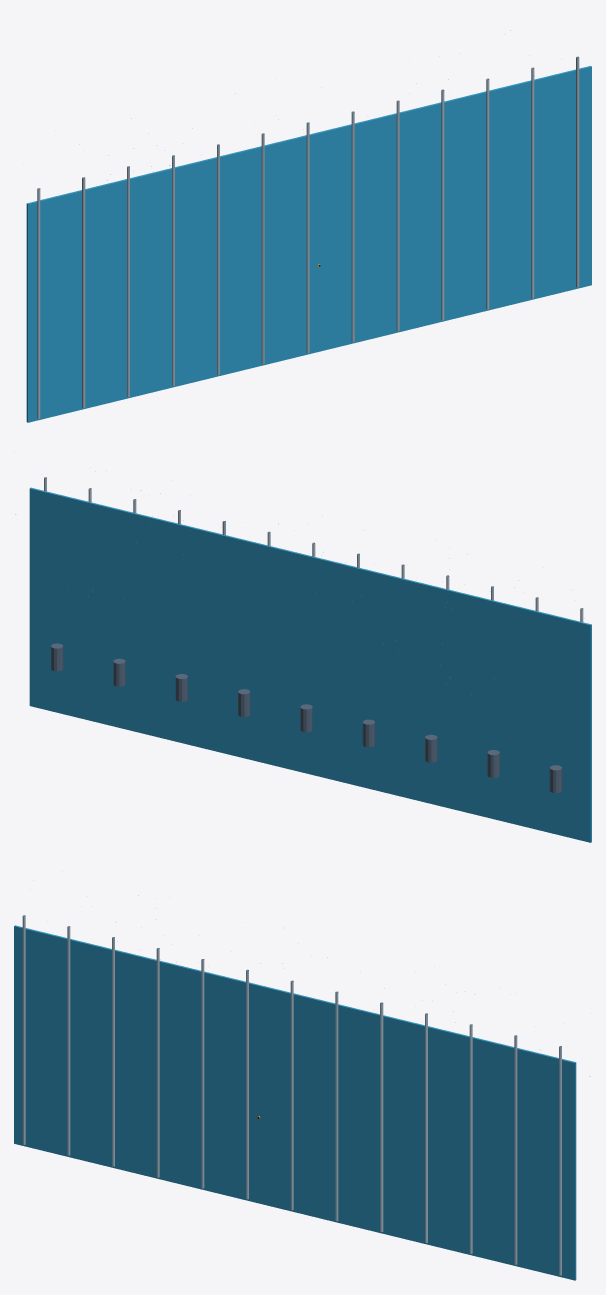
File: 01_L88_PanoramicOrbitalGardenViewport.fbx
3 renders of one model, top to bottom at view 1: azimuth 30°, elevation 25°; view 2: azimuth 150°, elevation 25°; view 3: azimuth 330°, elevation 25°, orthographic.
Visible parts, largest first — view 1: L87_PanoramicOrbitalGardenViewport_Part_0000, L87_PanoramicOrbitalGardenViewport_Part_0001; view 2: L87_PanoramicOrbitalGardenViewport_Part_0000, L87_PanoramicOrbitalGardenViewport_Part_0002, L87_PanoramicOrbitalGardenViewport_Part_0001; view 3: L87_PanoramicOrbitalGardenViewport_Part_0000, L87_PanoramicOrbitalGardenViewport_Part_0001.
Boxes of the visible parts, <box> form: L87_PanoramicOrbitalGardenViewport_Part_0000: <box>26,66,591,422</box>; L87_PanoramicOrbitalGardenViewport_Part_0001: <box>37,56,579,418</box>; L87_PanoramicOrbitalGardenViewport_Part_0000: <box>29,487,591,842</box>; L87_PanoramicOrbitalGardenViewport_Part_0002: <box>51,643,562,793</box>; L87_PanoramicOrbitalGardenViewport_Part_0001: <box>44,477,583,622</box>; L87_PanoramicOrbitalGardenViewport_Part_0000: <box>14,925,576,1280</box>; L87_PanoramicOrbitalGardenViewport_Part_0001: <box>22,915,561,1275</box>.
Bounding box in the file's own units: 2743 × 1259 × 282.
